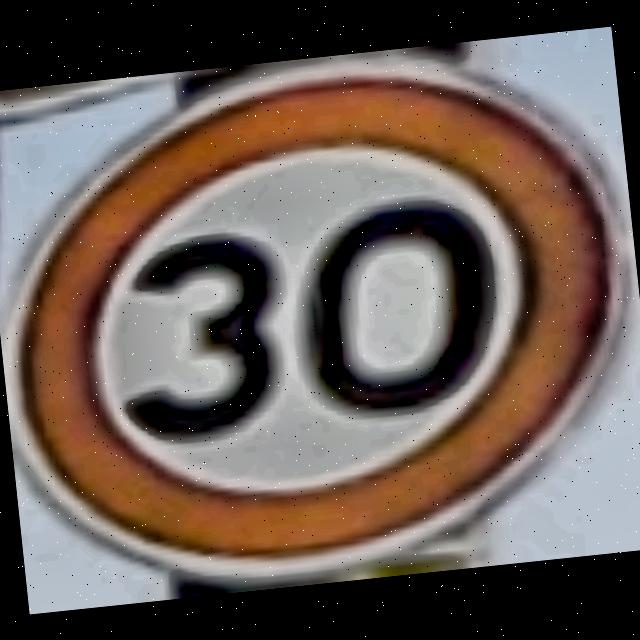speed_30: (0, 27, 640, 608)
